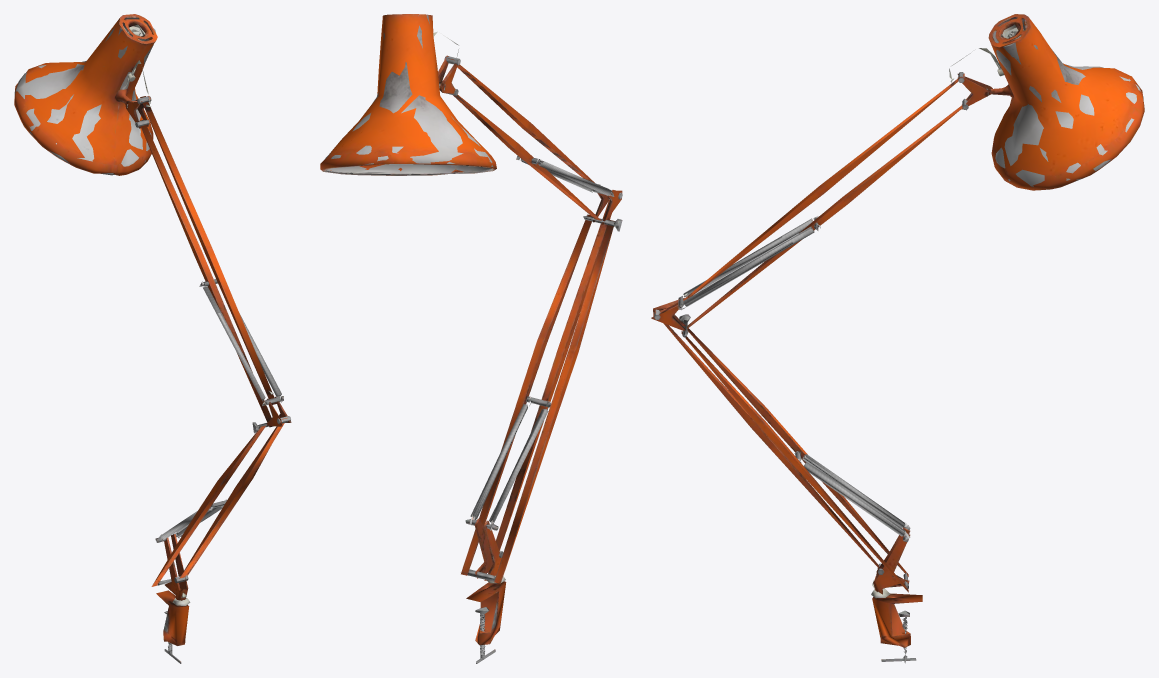
File: lib_banker_lamp_aaa-f1f5b7f27ccb.glb
3 views of the same model, side by side, from view 1: azimuth 30°, elevation 25°; view 2: azimuth 150°, elevation 25°; view 3: azimuth 270°, elevation 25° (orthographic). The views are drawn at different scales.
Parts seen in each view (by area): view 1: desk_lamp_arm_01; view 2: desk_lamp_arm_01; view 3: desk_lamp_arm_01.
Part boxes in pixels (bbox=[...]): desk_lamp_arm_01: bbox=[14, 14, 291, 663]; desk_lamp_arm_01: bbox=[320, 14, 622, 663]; desk_lamp_arm_01: bbox=[651, 14, 1144, 663].
Bounding box in the file's own units: 0.1085 × 0.48 × 0.3298.
Materials: 2 (2 with a texture image).
